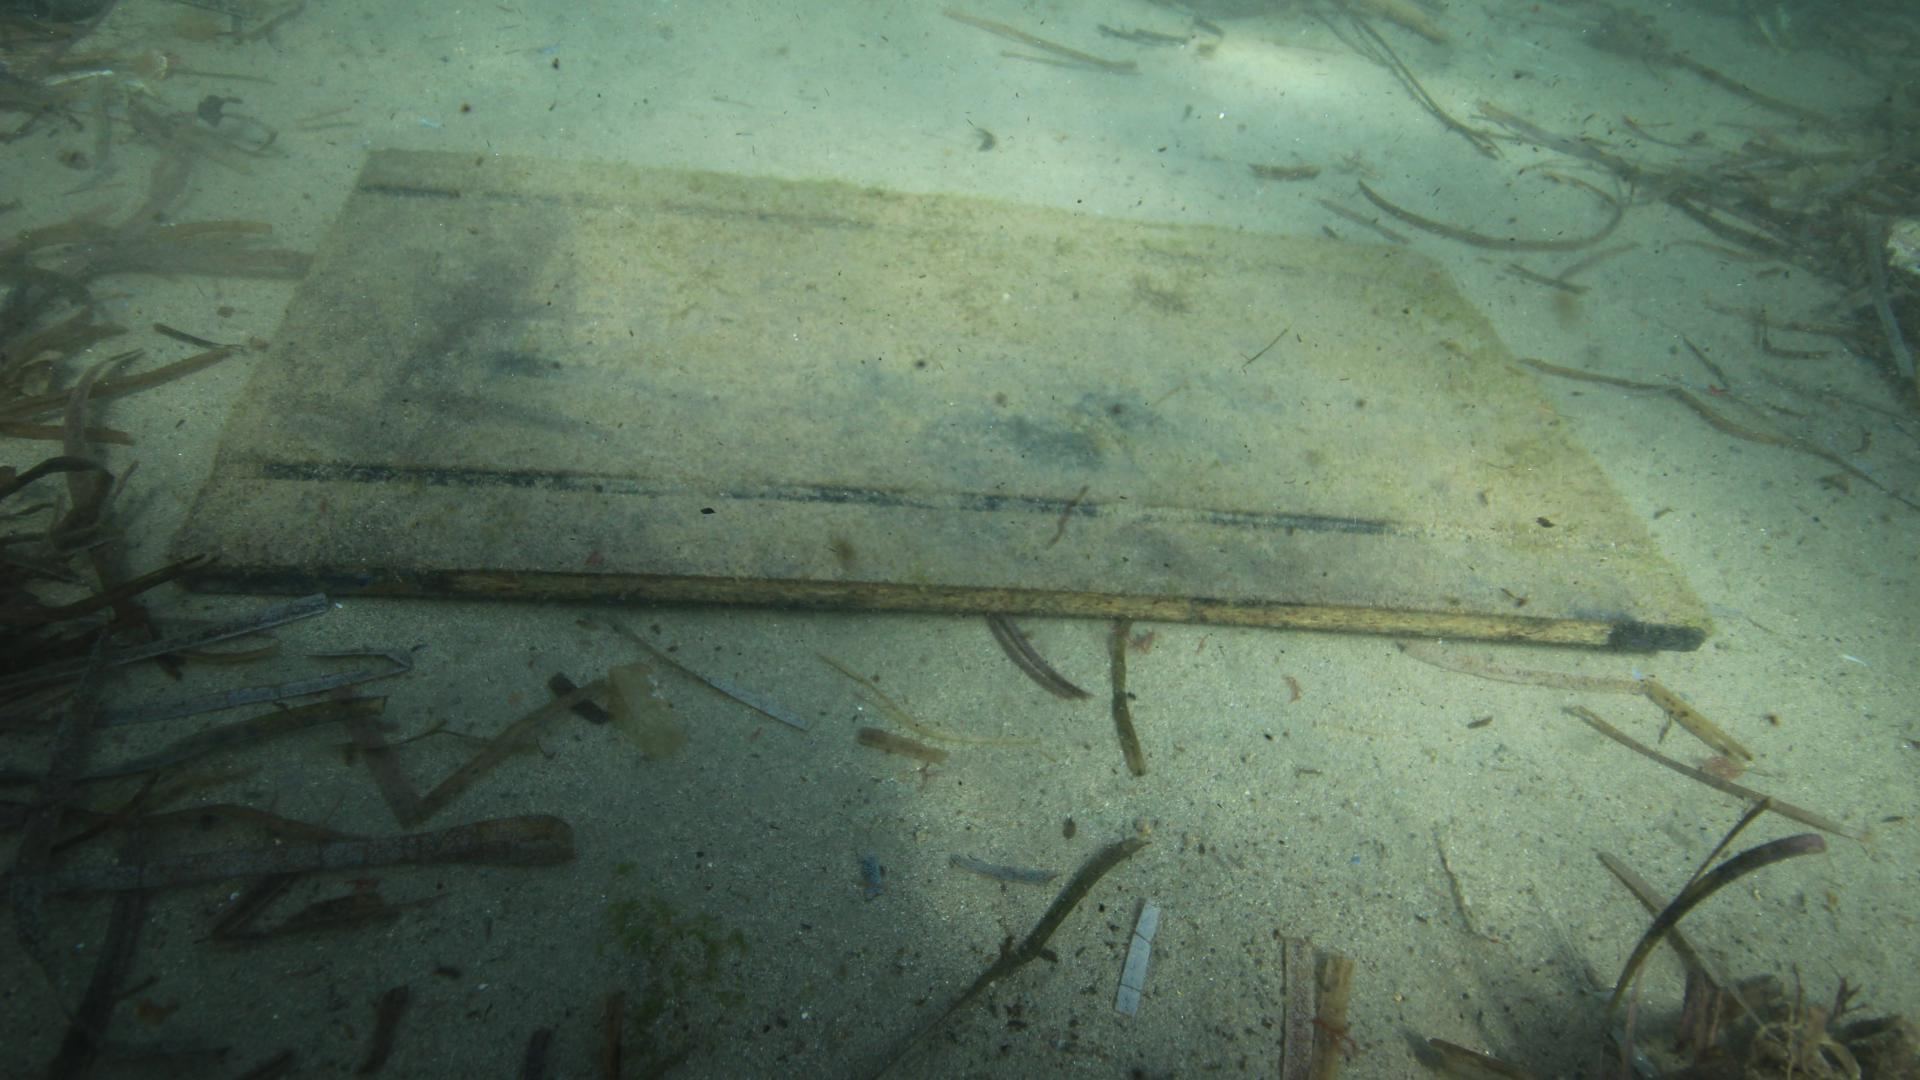wood: (170, 145, 1712, 654)
